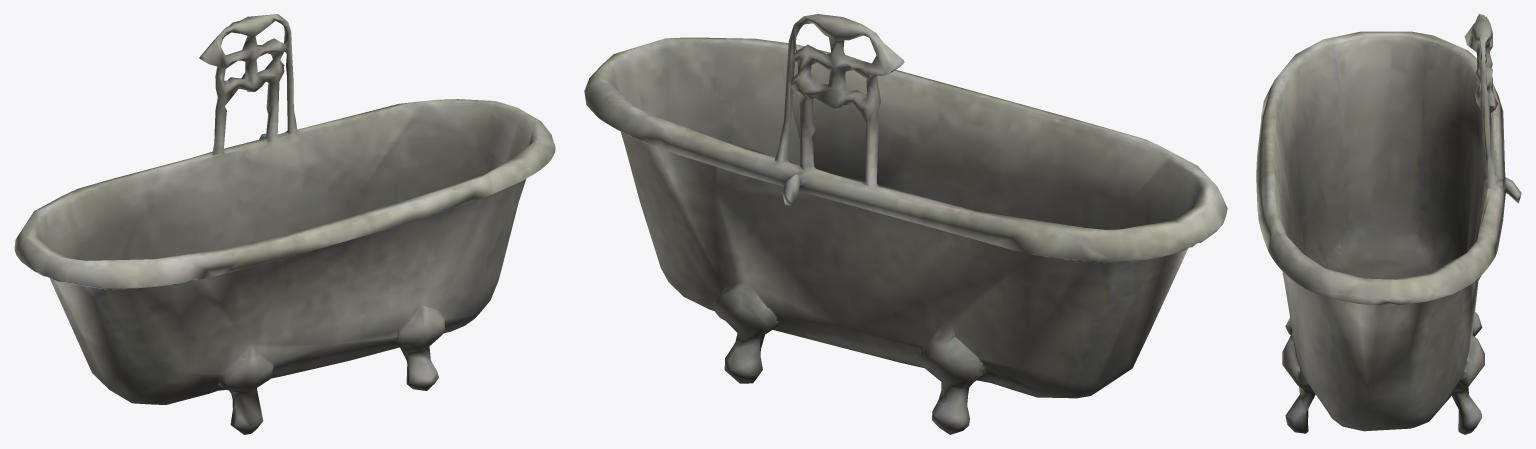
The model's file is old-white-painted-bathtub-v001.glb.
3 renders of one model, left to right at view 1: azimuth 30°, elevation 25°; view 2: azimuth 150°, elevation 25°; view 3: azimuth 270°, elevation 25°, orthographic. The views are drawn at different scales.
Visible parts, largest first — view 1: old-white-painted-bathtub; view 2: old-white-painted-bathtub; view 3: old-white-painted-bathtub.
Boxes of the visible parts, bbox=[...] form: old-white-painted-bathtub: bbox=[14, 14, 555, 434]; old-white-painted-bathtub: bbox=[584, 14, 1227, 434]; old-white-painted-bathtub: bbox=[1256, 14, 1521, 434].
Size of the model in its own units: 1.21 by 0.7434 by 0.496.
1 material, 1 textured.
